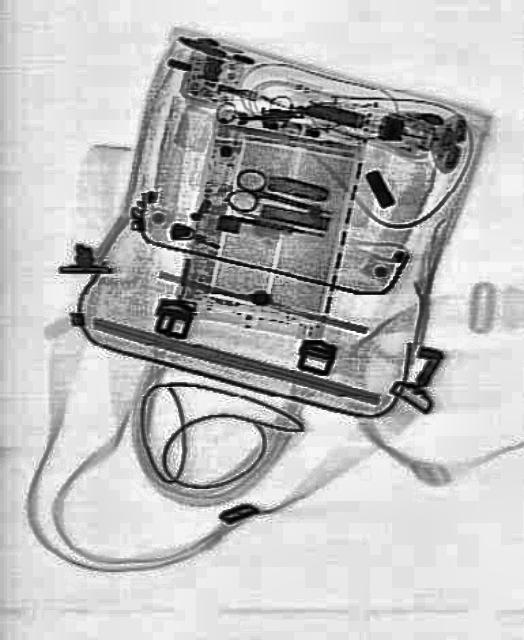Scissors: (222, 162, 332, 232)
